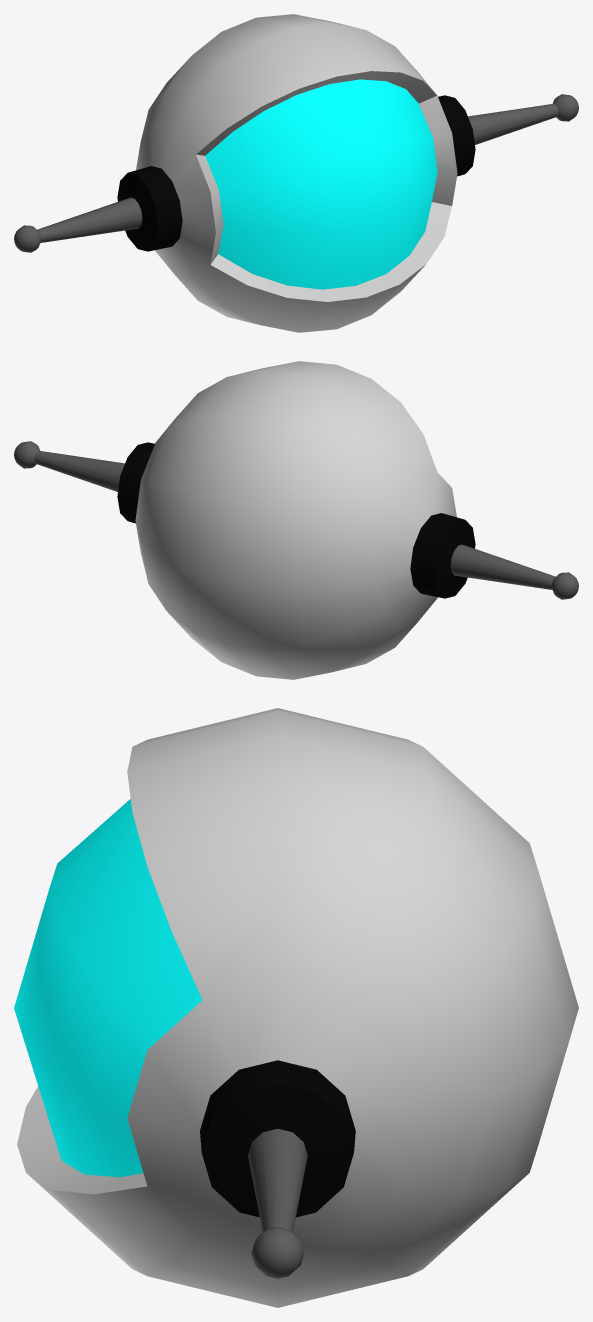
Rendered from spaceHelmet.fbx.
3 views of the same model, one above another, from view 1: azimuth 30°, elevation 25°; view 2: azimuth 150°, elevation 25°; view 3: azimuth 270°, elevation 25° (orthographic). The views are drawn at different scales.
Parts seen in each view (by area): view 1: helmet; view 2: helmet; view 3: helmet.
Boxes of the visible parts, x1,y1,x2,y2 form: helmet: (14, 14, 578, 332); helmet: (14, 361, 578, 679); helmet: (14, 708, 578, 1307).
Size of the model in its own units: 4.03 by 2 by 1.88.
